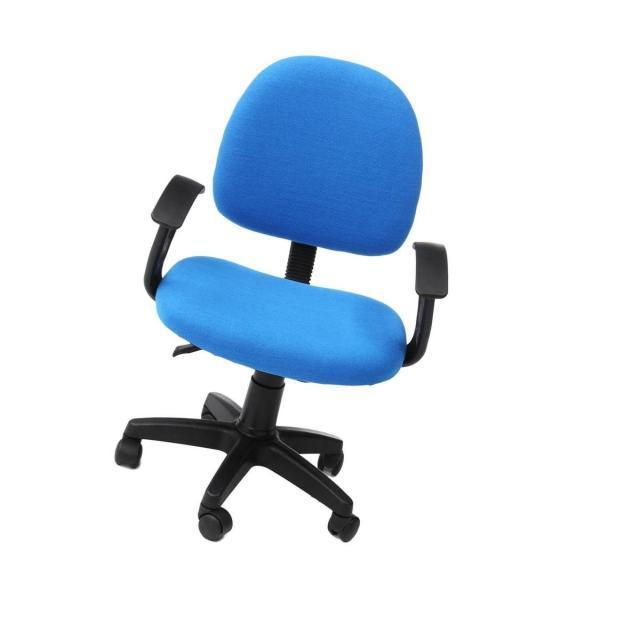chair: (110, 54, 450, 543)
